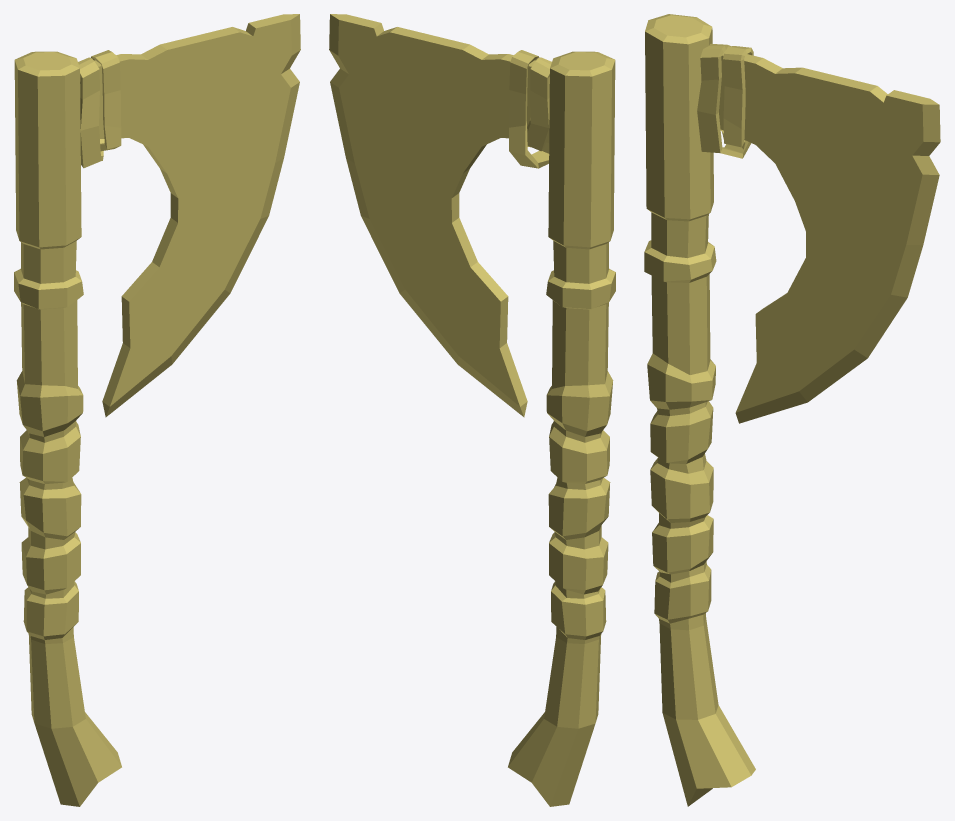
Rendered from hachaoro.glb.
3 renders of one model, left to right at view 1: azimuth 30°, elevation 25°; view 2: azimuth 150°, elevation 25°; view 3: azimuth 330°, elevation 25°, orthographic. The views are drawn at different scales.
Visible parts, largest first — view 1: Axe_small_Golden_Cylinder.028; view 2: Axe_small_Golden_Cylinder.028; view 3: Axe_small_Golden_Cylinder.028.
Boxes of the visible parts, x1,y1,x2,y2 form: Axe_small_Golden_Cylinder.028: (14, 14, 300, 806); Axe_small_Golden_Cylinder.028: (329, 14, 615, 806); Axe_small_Golden_Cylinder.028: (644, 14, 940, 806).
Size of the model in its own units: 0.6236 by 1.57 by 0.1322.
